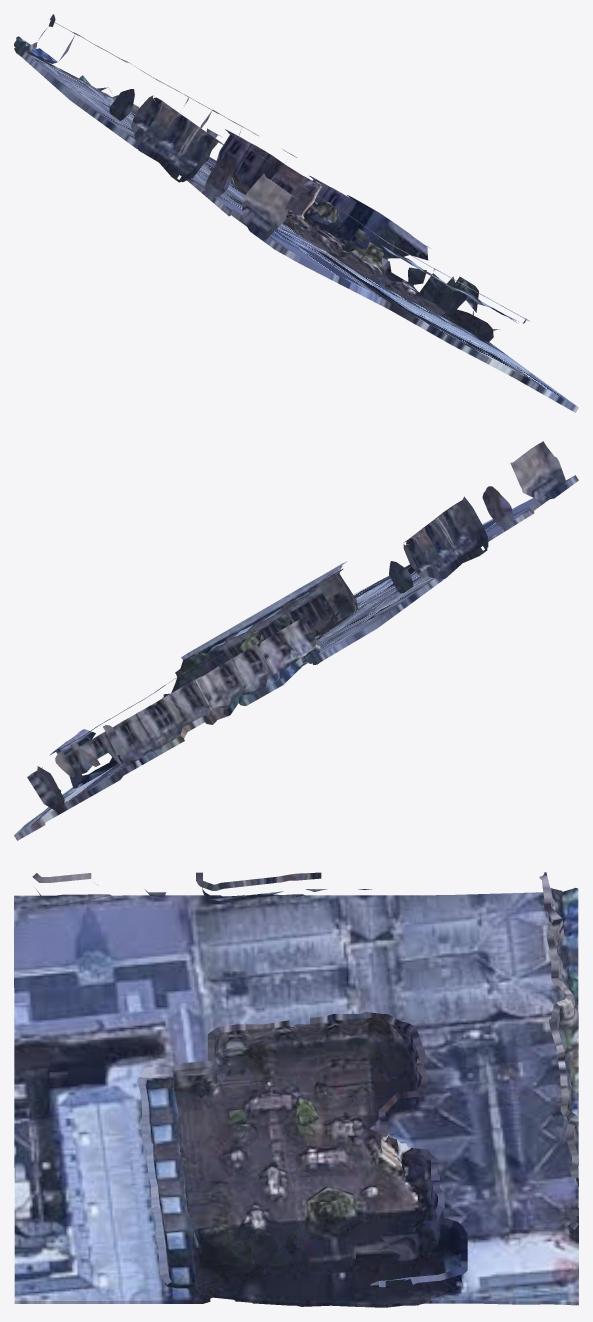
The model's file is AJVsH2zCEjXFAhM-QezbVWAwyBnFcGNJgZ2Zd6JTxNuLDBAd6htnSbpgNWR5k2ynS9NZMsf8LHZ7u8NjapCFLtvEoyYuxs_9aunffoPQHu8c9aUcxlrdPR-gyjWfvNtgr4PqpyF2y8bPood-L4W5n15SQiz-qU4_PD3z7tYsZr7DCriFPPu_qQjXXX97HHpa_A.glb.
3 views of the same model, one above another, from view 1: azimuth 30°, elevation 25°; view 2: azimuth 150°, elevation 25°; view 3: azimuth 270°, elevation 25° (orthographic). The views are drawn at different scales.
Size of the model in its own units: 33.62 by 27.74 by 47.03.
Materials: 1 (1 with a texture image).
